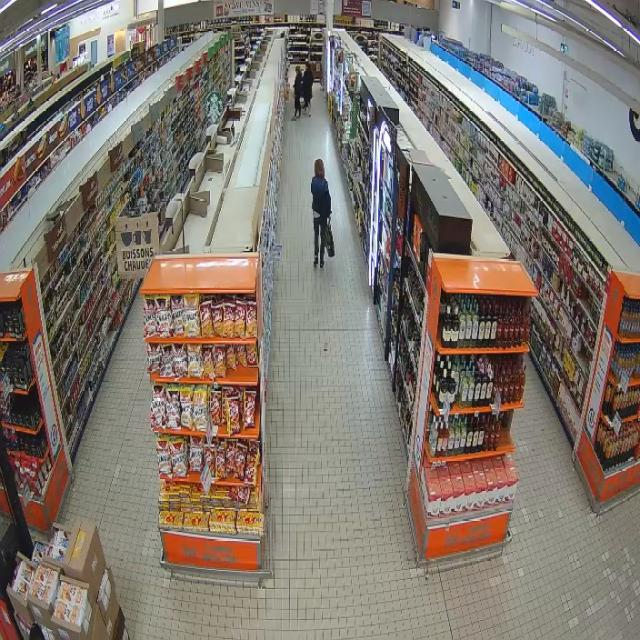bags: (325, 221, 334, 257)
hands: (328, 213, 331, 221)
person: (311, 159, 330, 267)
